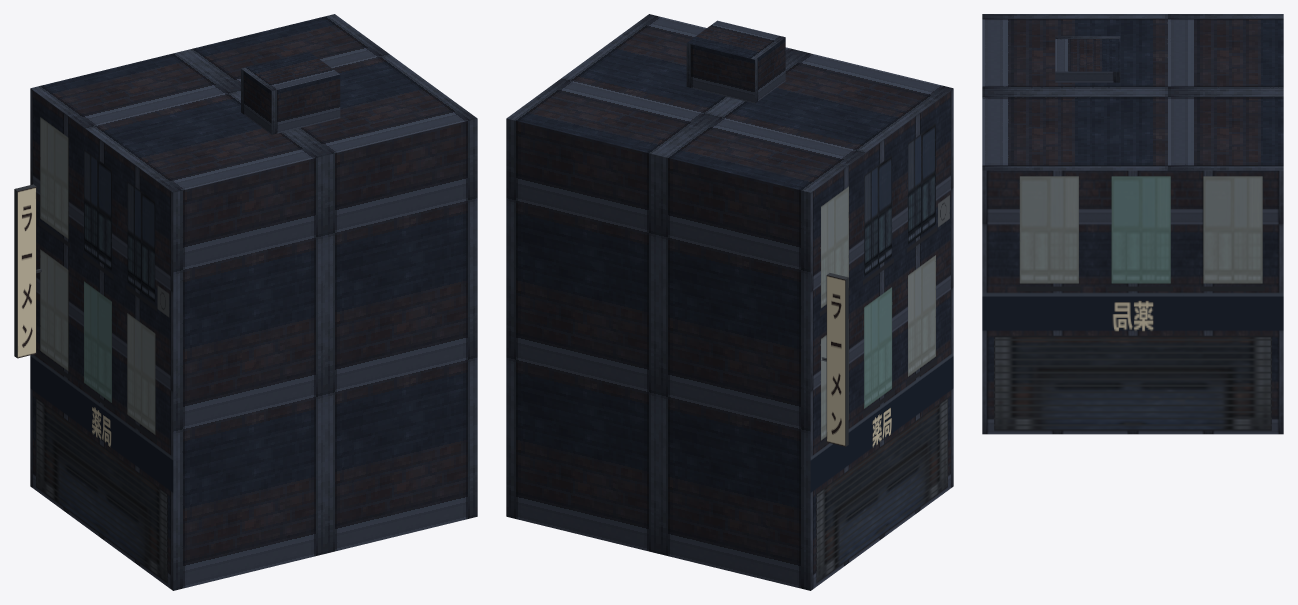
File: street_shop_3.glb
The picture shows the model from 3 angles, left to right: view 1: azimuth 30°, elevation 25°; view 2: azimuth 150°, elevation 25°; view 3: azimuth 270°, elevation 25°; orthographic projection. The views are drawn at different scales.
Parts seen in each view (by area): view 1: street_shop_3; view 2: street_shop_3; view 3: street_shop_3.
Boxes of the visible parts, x1,y1,x2,y2 form: street_shop_3: (14, 14, 477, 590); street_shop_3: (506, 14, 953, 590); street_shop_3: (982, 14, 1283, 434).
Size of the model in its own units: 8.67 by 11.1 by 6.5.
4 materials, 4 textured.
